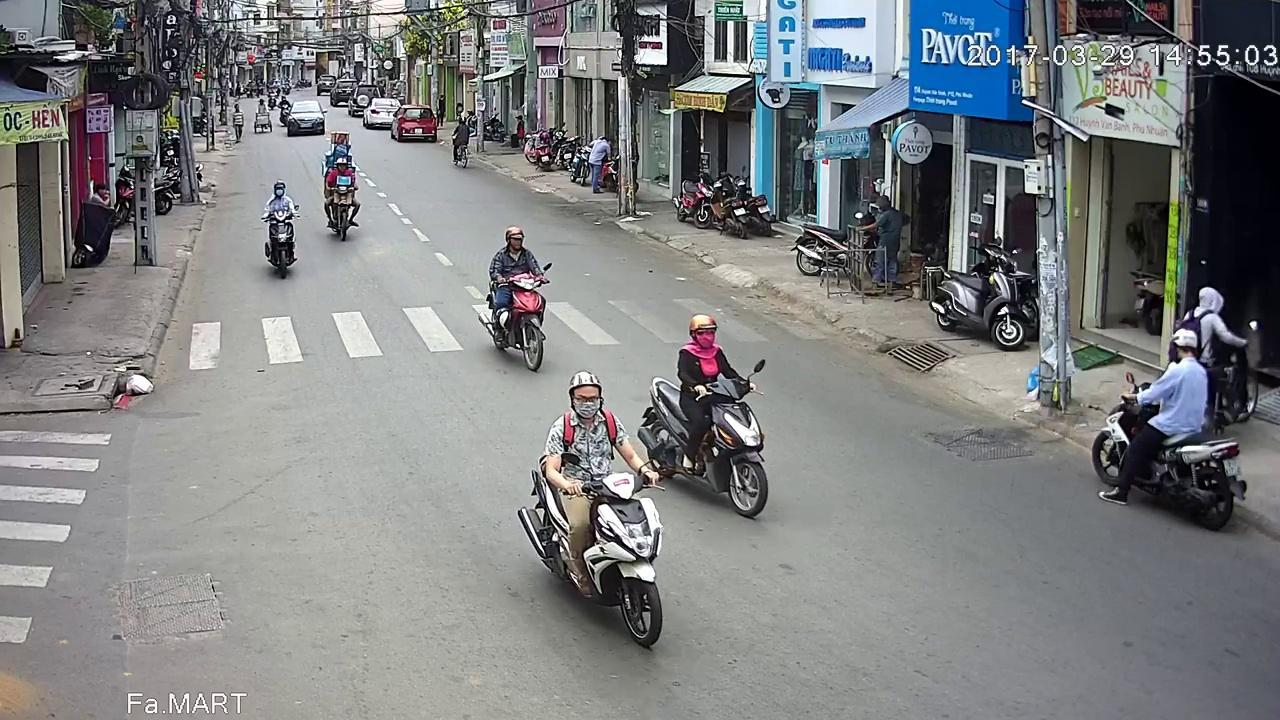xe dap: (452, 116, 472, 168)
xe hoi: (387, 103, 433, 141), (285, 96, 325, 132)
xe may: (515, 374, 665, 658), (1094, 325, 1247, 529), (643, 310, 770, 519), (480, 230, 555, 375), (263, 182, 300, 278), (323, 155, 362, 239)
